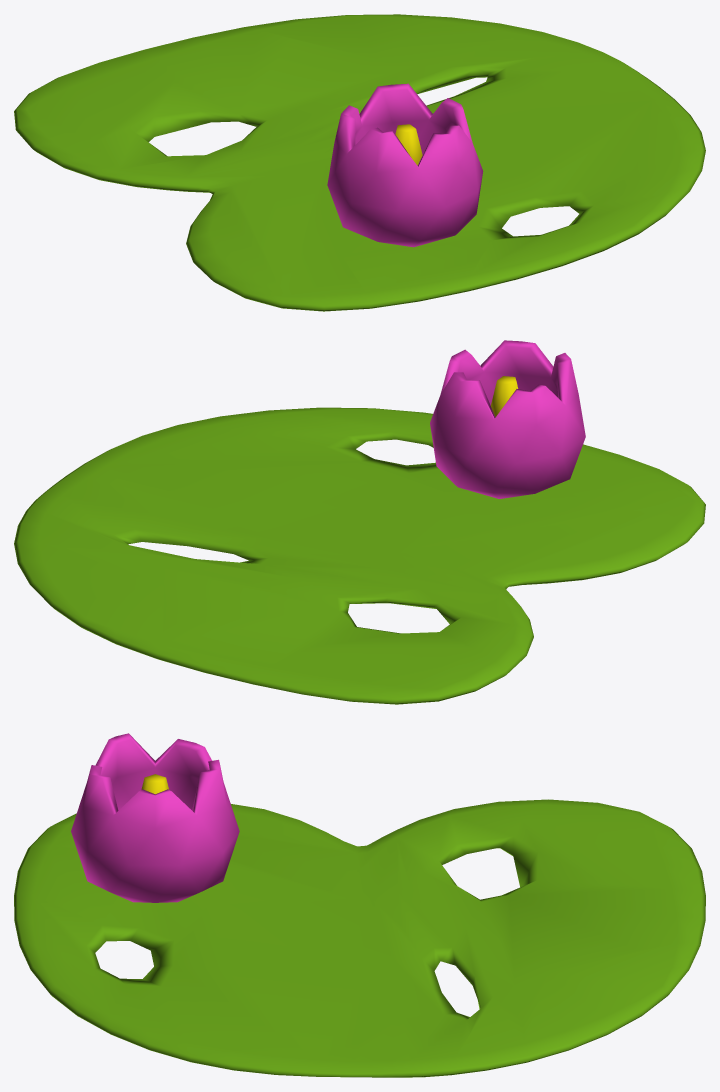
File: nenufar.fbx
3 renders of one model, top to bottom at view 1: azimuth 30°, elevation 25°; view 2: azimuth 150°, elevation 25°; view 3: azimuth 270°, elevation 25°, orthographic. The views are drawn at different scales.
Visible parts, largest first — view 1: Plane, Icosphere; view 2: Plane, Icosphere; view 3: Plane, Icosphere.
Boxes of the visible parts, x1,y1,x2,y2 form: Plane: (14,14,705,311); Icosphere: (327,83,483,247); Plane: (14,407,705,704); Icosphere: (430,340,585,498); Plane: (14,799,705,1077); Icosphere: (71,733,239,902).
Bounding box in the file's own units: 232 × 57.43 × 246.
